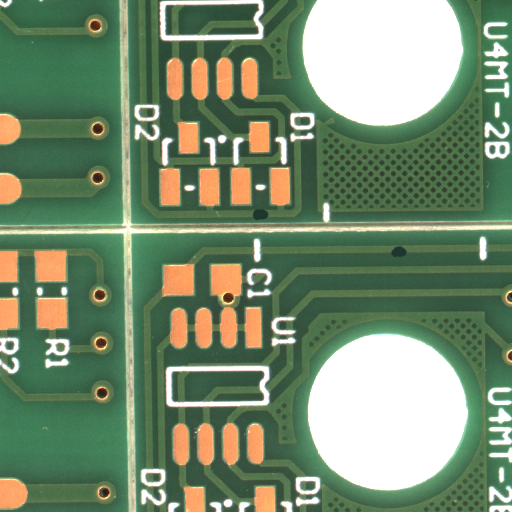Mouse_bite: (260, 214, 277, 227), (399, 251, 416, 264)
